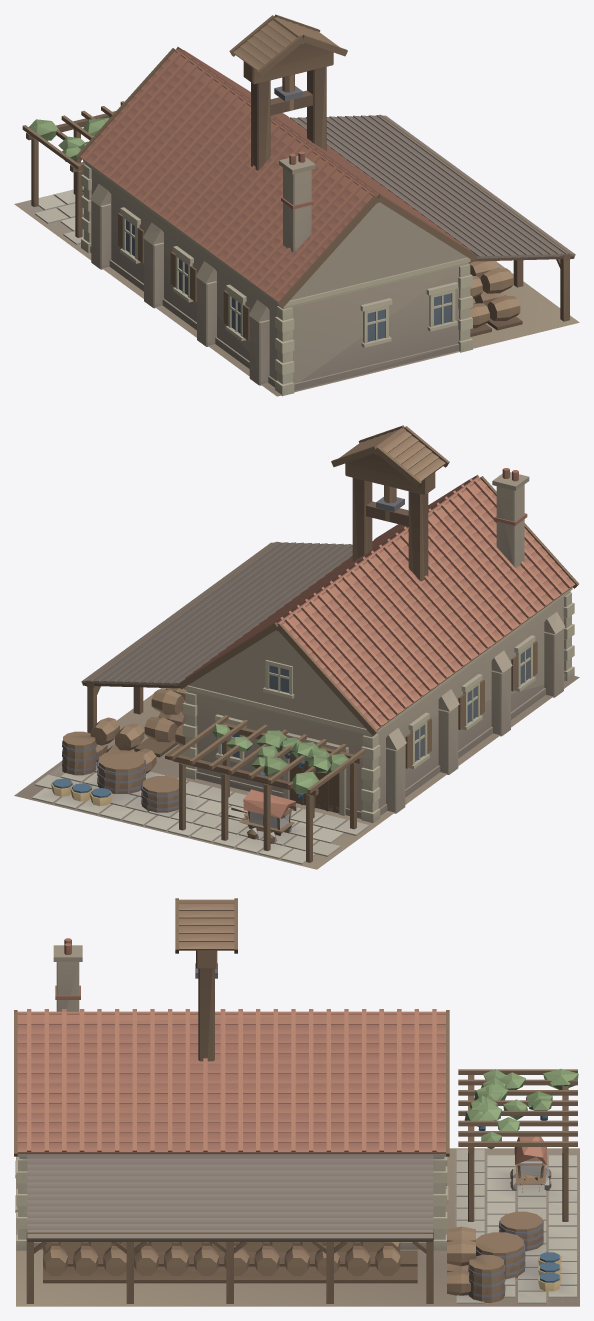
File: winepress.glb
The picture shows the model from 3 angles, top to bottom: view 1: azimuth 30°, elevation 25°; view 2: azimuth 150°, elevation 25°; view 3: azimuth 270°, elevation 25°; orthographic projection. The views are drawn at different scales.
Parts seen in each view (by area): view 1: winepress; view 2: winepress; view 3: winepress.
Boxes of the visible parts, <box> form: winepress: <box>14,14,579,396</box>; winepress: <box>14,425,579,869</box>; winepress: <box>14,898,579,1306</box>.
Size of the model in its own units: 6.02 by 5.31 by 8.99.
